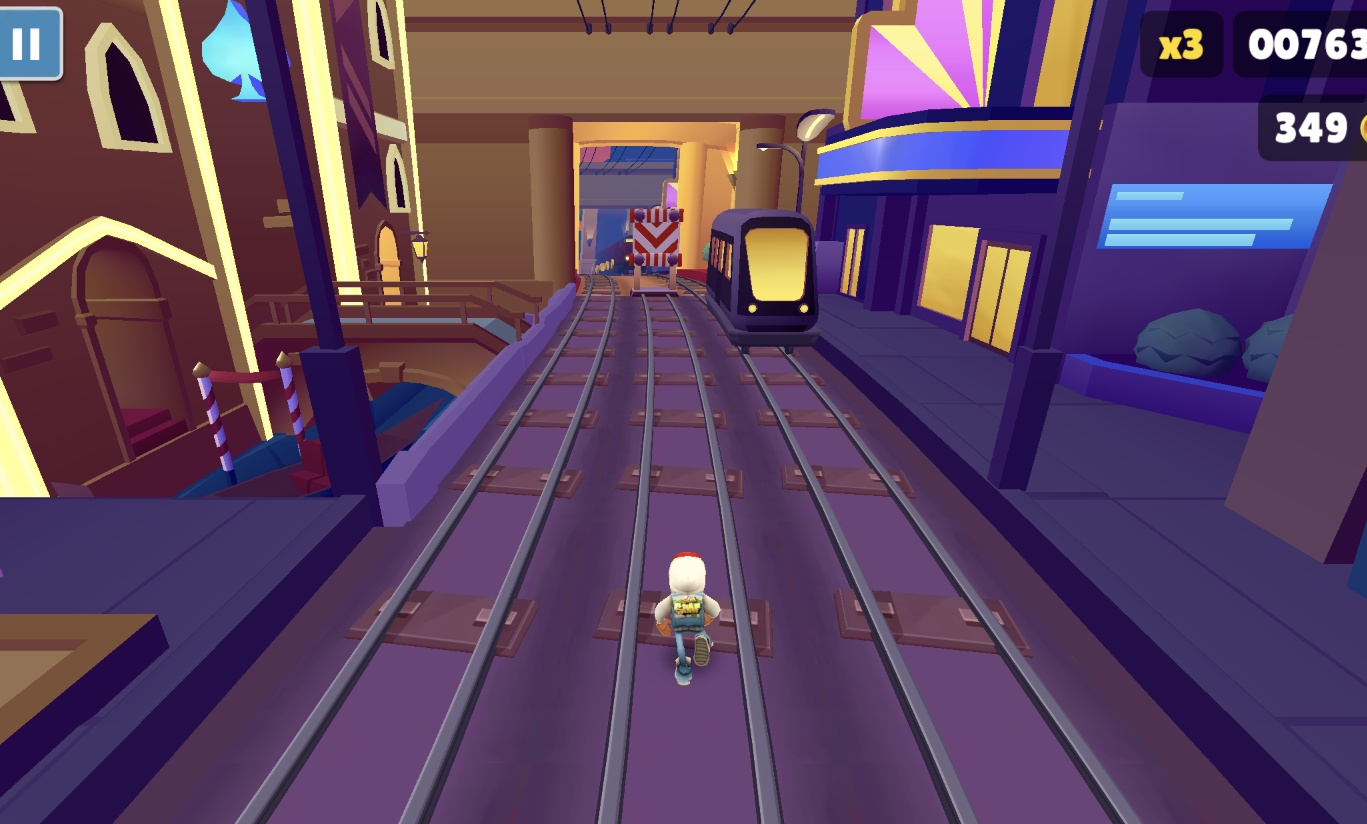overhead_barrier: (627, 207, 684, 297)
train: (703, 208, 822, 349)
